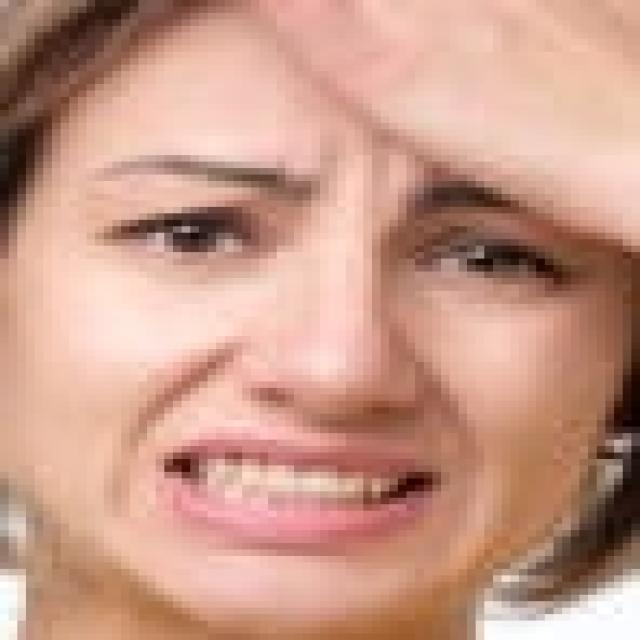Anxiety: (0, 2, 631, 632)
